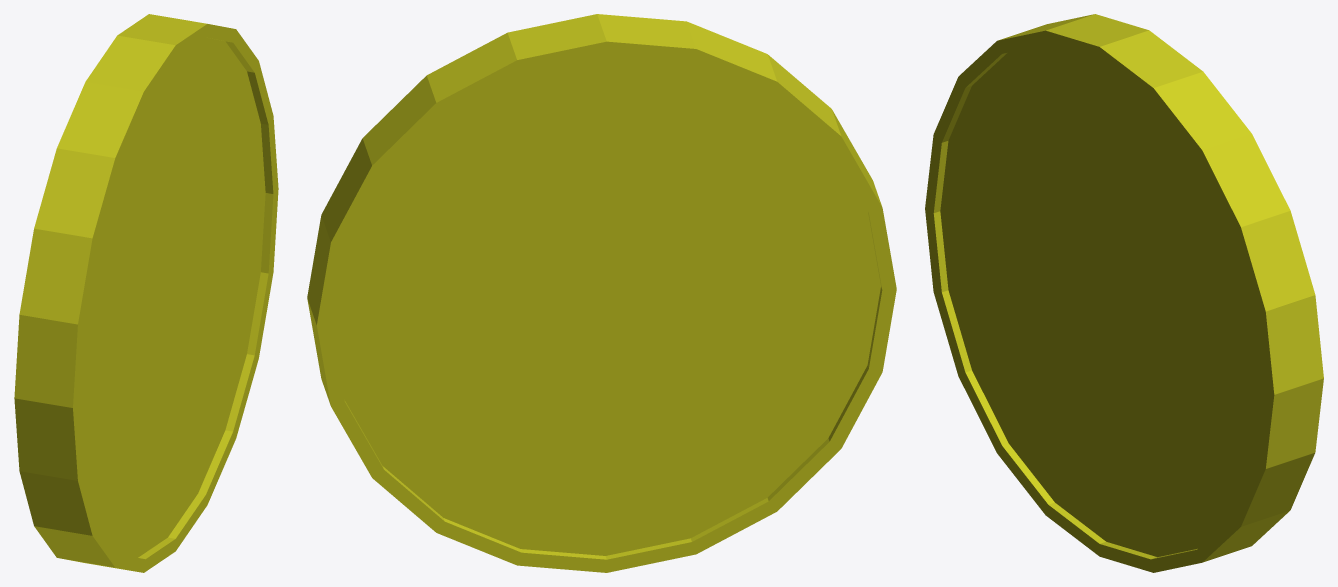
The model's file is Low Poly Coin_000101.obj.
The picture shows the model from 3 angles, left to right: view 1: azimuth 30°, elevation 25°; view 2: azimuth 150°, elevation 25°; view 3: azimuth 270°, elevation 25°; orthographic projection. The views are drawn at different scales.
Parts seen in each view (by area): view 1: Cylinder; view 2: Cylinder; view 3: Cylinder.
Part boxes in pixels (left/top/right/bottom): Cylinder: left=14, top=14, right=278, bottom=572; Cylinder: left=307, top=14, right=896, bottom=572; Cylinder: left=925, top=14, right=1323, bottom=572.
Bounding box in the file's own units: 1.71 × 2 × 1.42.
